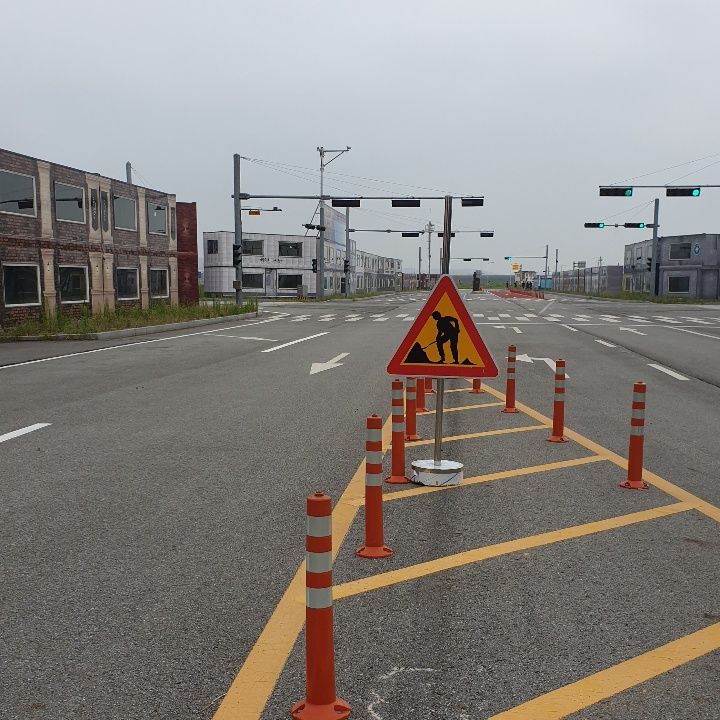const: (397, 307, 481, 365)
